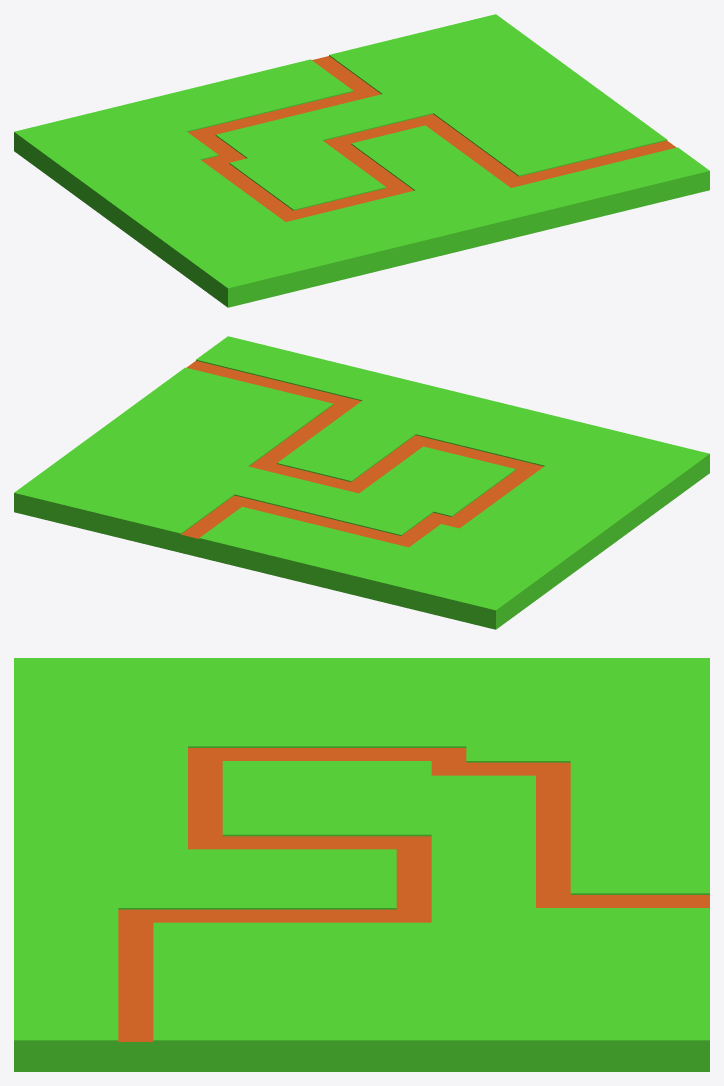
File: Grass Plains lvl 1 TDP.fbx
3 views of the same model, one above another, from view 1: azimuth 30°, elevation 25°; view 2: azimuth 150°, elevation 25°; view 3: azimuth 270°, elevation 25° (orthographic). The views are drawn at different scales.
Visible parts, largest first — view 1: Field, Track; view 2: Field, Track; view 3: Field, Track.
Part boxes in pixels (box(x1,y1,x2,y2)): Field: box(14, 14, 709, 307); Track: box(188, 56, 676, 221); Field: box(14, 336, 709, 629); Track: box(181, 361, 543, 547); Field: box(14, 658, 709, 1071); Track: box(118, 748, 709, 1041).
Size of the model in its own units: 2600 by 100 by 2000.
